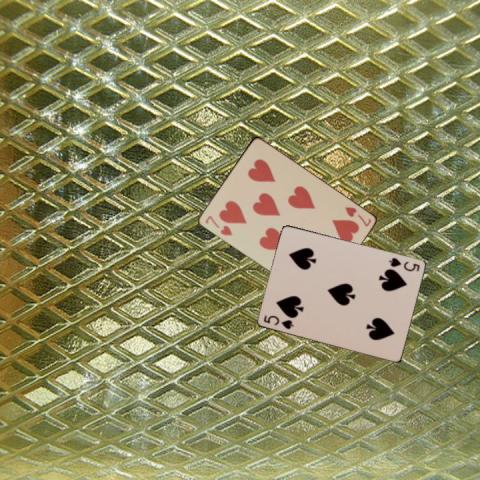5s: (261, 312, 295, 331), (386, 254, 421, 272)
7h: (202, 213, 234, 237), (342, 204, 373, 228)
